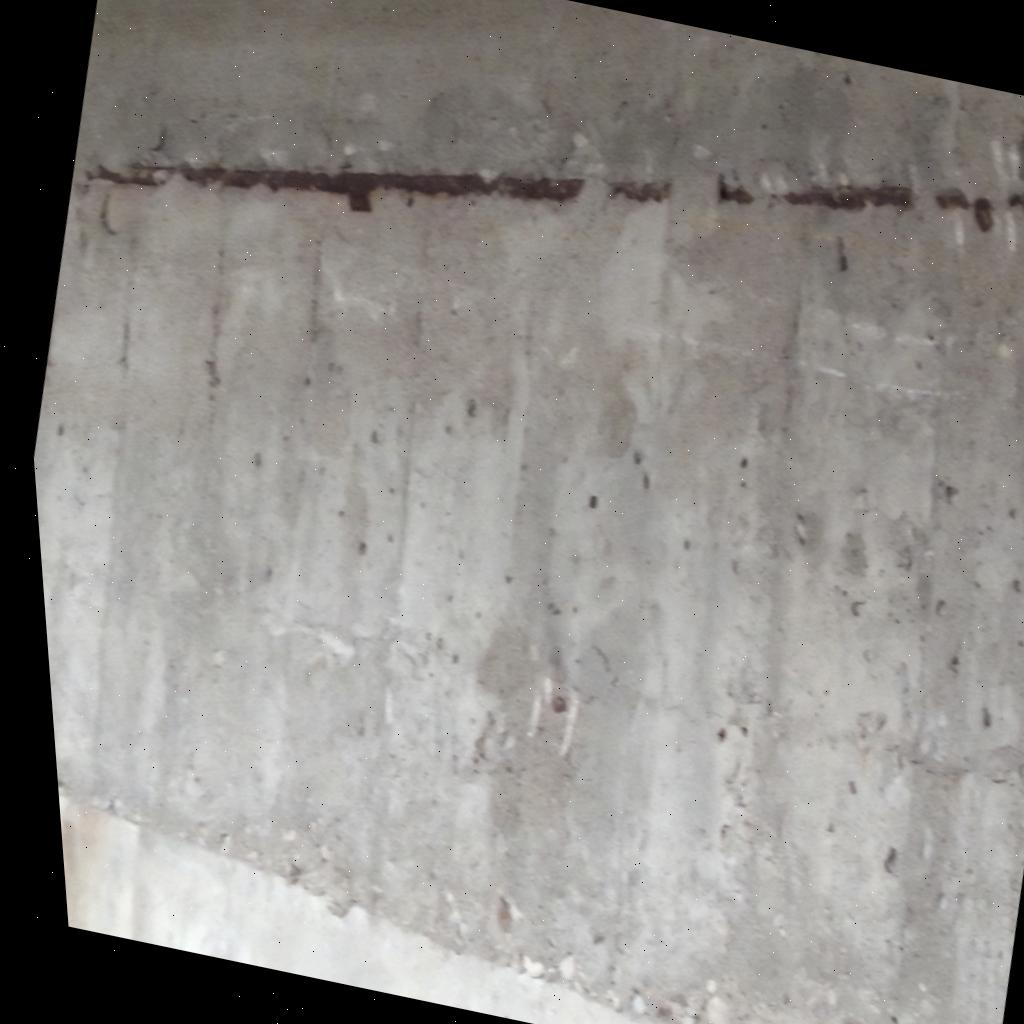exposed_rebar: (88, 163, 585, 212), (776, 184, 916, 212), (935, 189, 995, 233), (609, 181, 671, 203), (718, 176, 755, 205), (1008, 192, 1024, 210)
